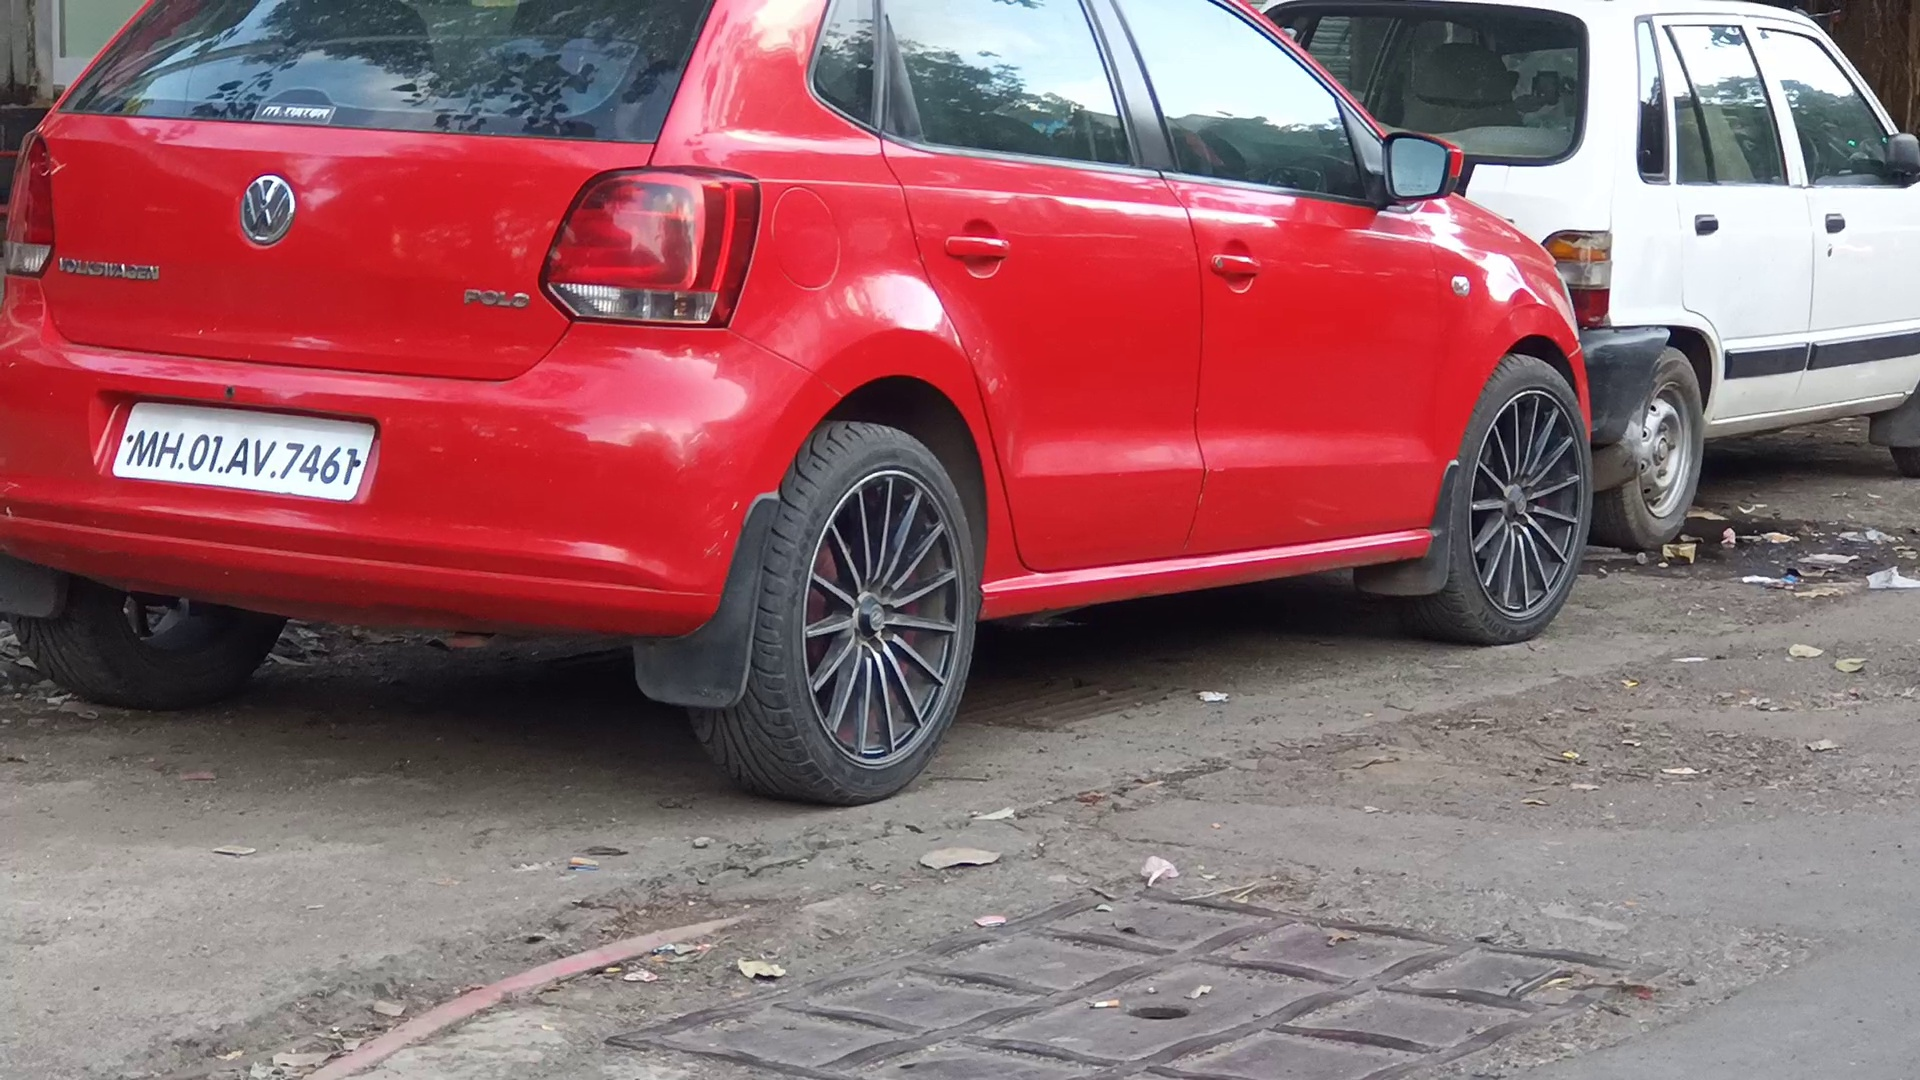MH01AV7461: (114, 400, 375, 499)
